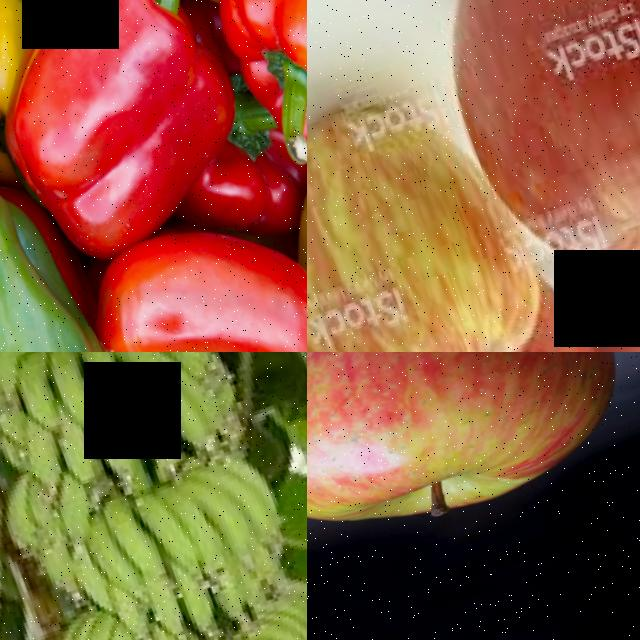apple: (383, 0, 640, 343), (307, 55, 593, 352), (307, 352, 640, 595)
banana: (0, 352, 307, 640)
bell pepper: (0, 0, 237, 238), (74, 221, 307, 352), (0, 189, 122, 352), (199, 0, 307, 156)
